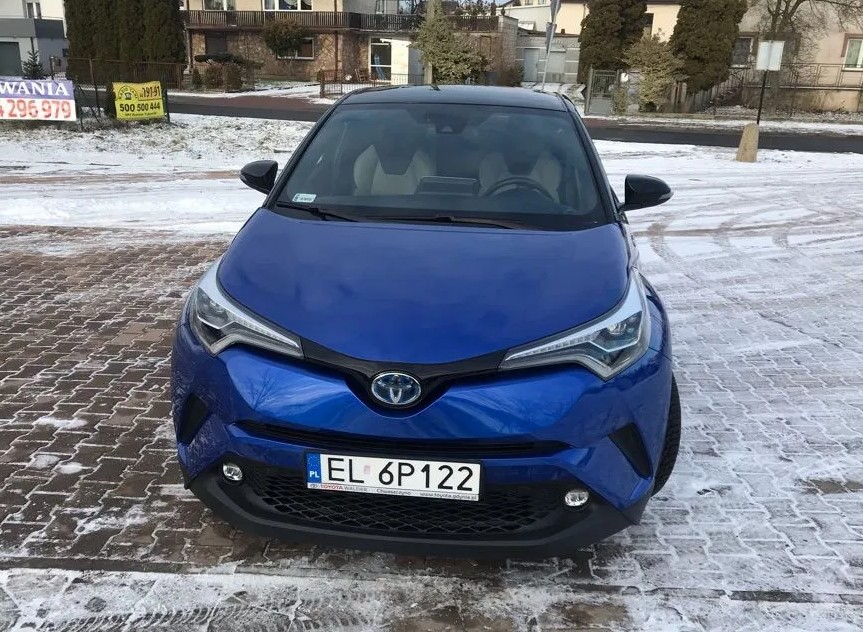number_plate: (291, 444, 491, 512)
